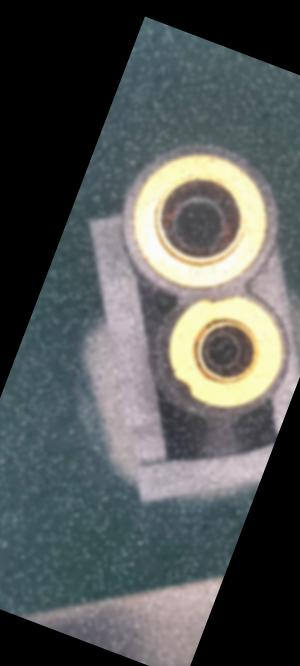bump: (160, 366, 201, 399), (206, 287, 239, 314)
